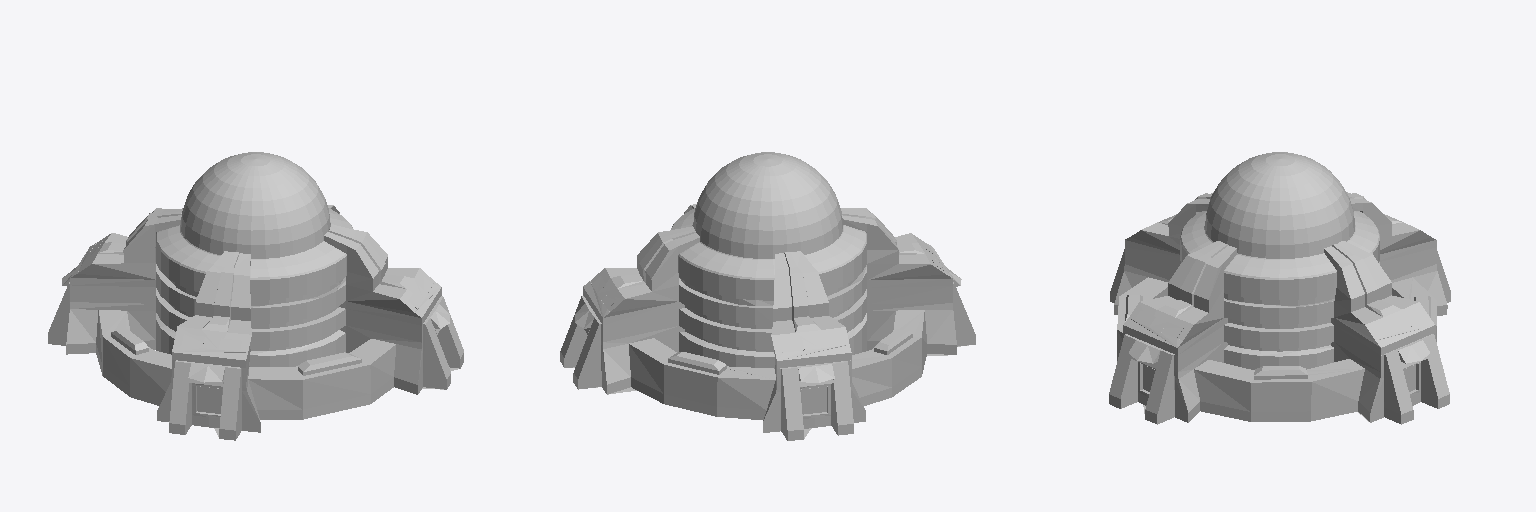
Rendered from command_center.obj.
The picture shows the model from 3 angles: view 1: azimuth 30°, elevation 25°; view 2: azimuth 150°, elevation 25°; view 3: azimuth 270°, elevation 25°; orthographic projection.
Parts seen in each view (by area): view 1: Cylinder; view 2: Cylinder; view 3: Cylinder.
Boxes of the visible parts, x1=… form: Cylinder: x1=48, y1=152, x2=463, y2=440; Cylinder: x1=560, y1=152, x2=975, y2=440; Cylinder: x1=1109, y1=152, x2=1450, y2=424.
Bounding box in the file's own units: 7.67 × 4.83 × 7.72.